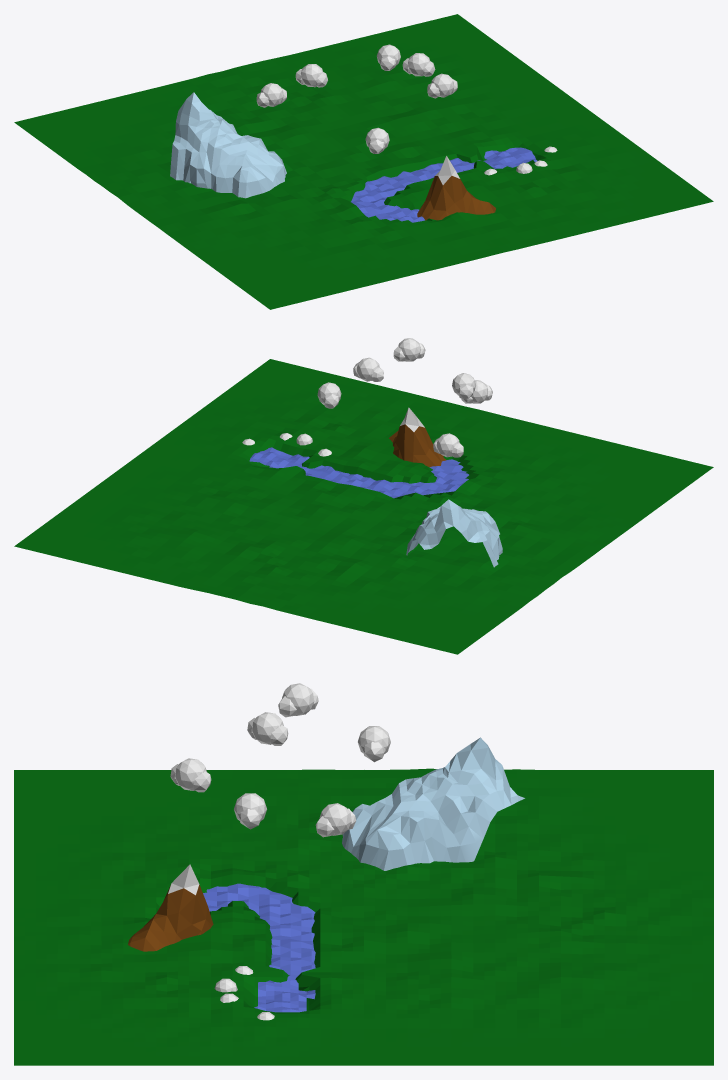
File: no skybox skybox.fbx
3 renders of one model, top to bottom at view 1: azimuth 30°, elevation 25°; view 2: azimuth 150°, elevation 25°; view 3: azimuth 270°, elevation 25°, orthographic. The views are drawn at different scales.
Visible parts, largest first — view 1: Plane, Plane.002, Plane.003, Plane.001, Cube.002, Icosphere.004, Icosphere.009, Icosphere.005, Icosphere.008, Icosphere.007, Icosphere.006; view 2: Plane, Plane.002, Plane.003, Plane.001, Cube.002, Icosphere.006, Icosphere.008, Icosphere.005; view 3: Plane, Plane.002, Plane.003, Plane.001, Cube.002, Icosphere.007, Icosphere.006, Icosphere.004, Icosphere.009, Icosphere.008, Icosphere.005.
Part boxes in pixels (x1,y1,x2,y2): Plane: [14, 14, 713, 309]; Plane.002: [170, 92, 286, 198]; Plane.003: [351, 158, 473, 222]; Plane.001: [417, 156, 495, 220]; Cube.002: [462, 147, 537, 170]; Icosphere.004: [402, 53, 435, 76]; Icosphere.009: [295, 64, 327, 87]; Icosphere.005: [427, 73, 457, 98]; Icosphere.008: [256, 83, 286, 107]; Icosphere.007: [365, 127, 389, 153]; Icosphere.006: [377, 44, 400, 70]; Plane: [14, 359, 713, 654]; Plane.002: [406, 499, 502, 567]; Plane.003: [305, 459, 468, 498]; Plane.001: [389, 407, 446, 467]; Cube.002: [249, 447, 329, 475]; Icosphere.006: [393, 338, 425, 361]; Icosphere.008: [433, 433, 463, 457]; Icosphere.005: [353, 357, 383, 381]; Plane: [14, 768, 713, 1065]; Plane.002: [342, 737, 524, 870]; Plane.003: [203, 883, 315, 975]; Plane.001: [128, 864, 213, 951]; Cube.002: [254, 965, 315, 1012]; Icosphere.007: [170, 758, 211, 792]; Icosphere.006: [247, 712, 288, 745]; Icosphere.004: [315, 803, 356, 837]; Icosphere.009: [278, 683, 318, 717]; Icosphere.008: [358, 726, 390, 762]; Icosphere.005: [234, 793, 266, 829].
Size of the model in its own units: 10202 by 3518 by 10202.
